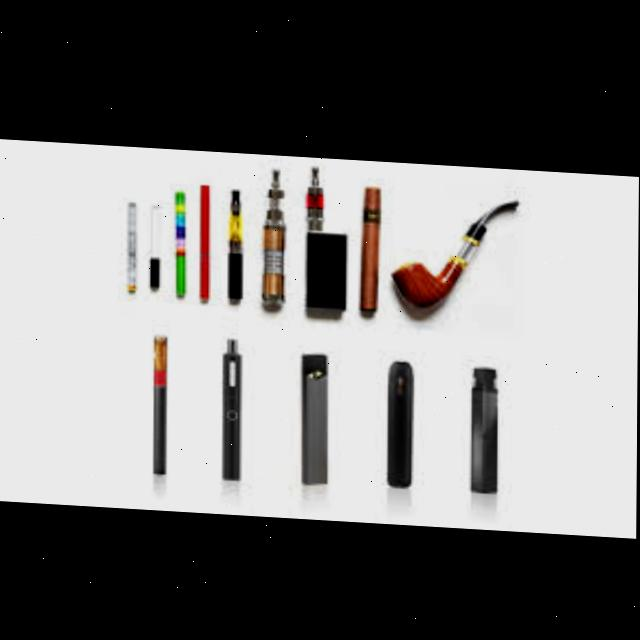cigarette: (128, 200, 137, 292), (151, 207, 160, 290)
vape: (305, 162, 348, 308), (301, 350, 330, 481), (470, 362, 500, 487), (262, 164, 288, 304), (388, 357, 415, 485), (224, 337, 244, 479), (362, 182, 381, 306), (152, 335, 169, 472), (228, 185, 243, 297), (199, 182, 210, 297), (175, 189, 186, 298)
